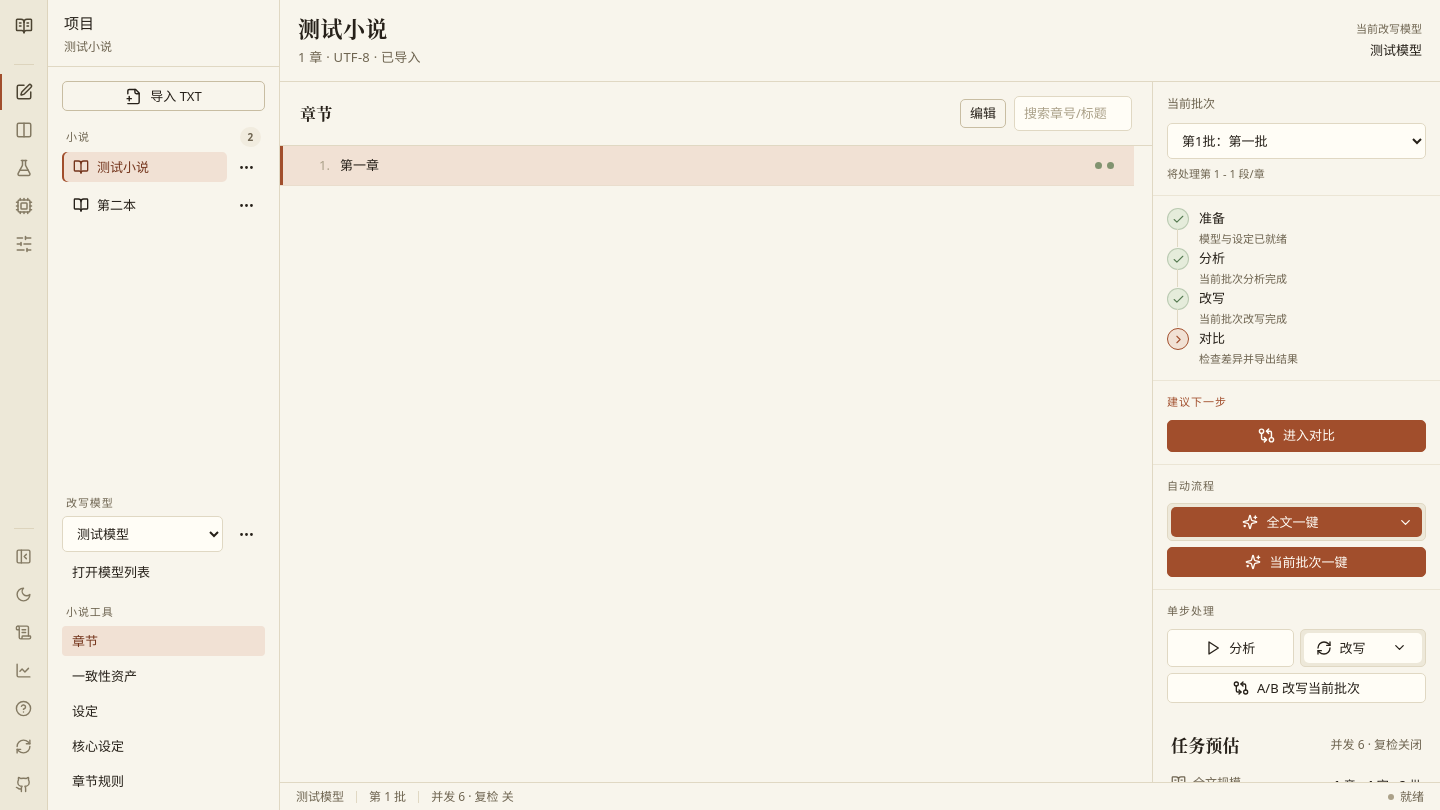
Scenario: App feature behavior › reopens the latest A/B experiment from the persistent top entry
The image size is (1440, 810).
Expected: the heading "测试小说" is shown, [298,12,388,43]
Click the button named "A/B 实验".
click(24, 168)  # box [6,150,42,186]
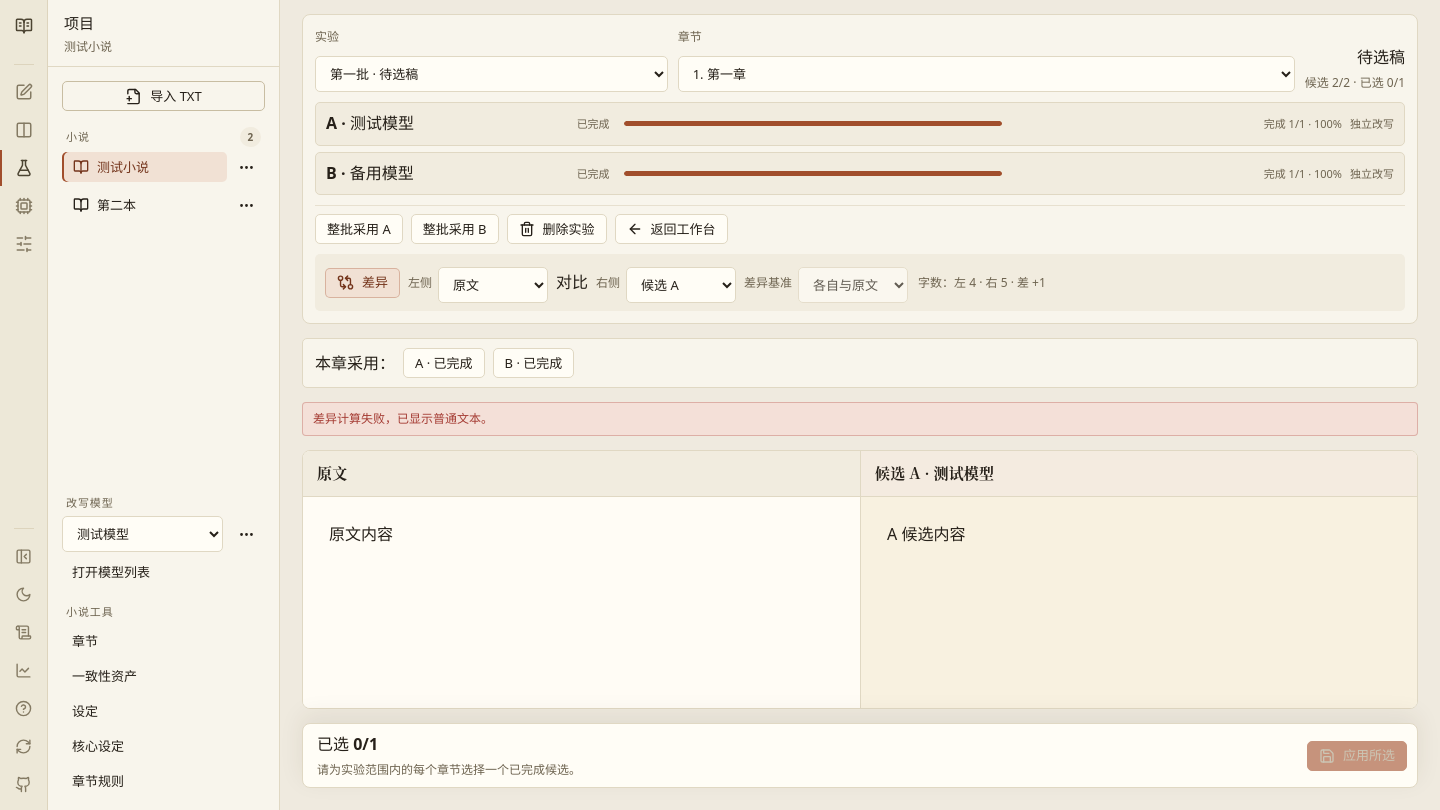
Expected: the text "A 候选内容" is shown, [887,523,965,545]
Click the button "返回工作台".
click(671, 229)  # box [615,214,728,244]
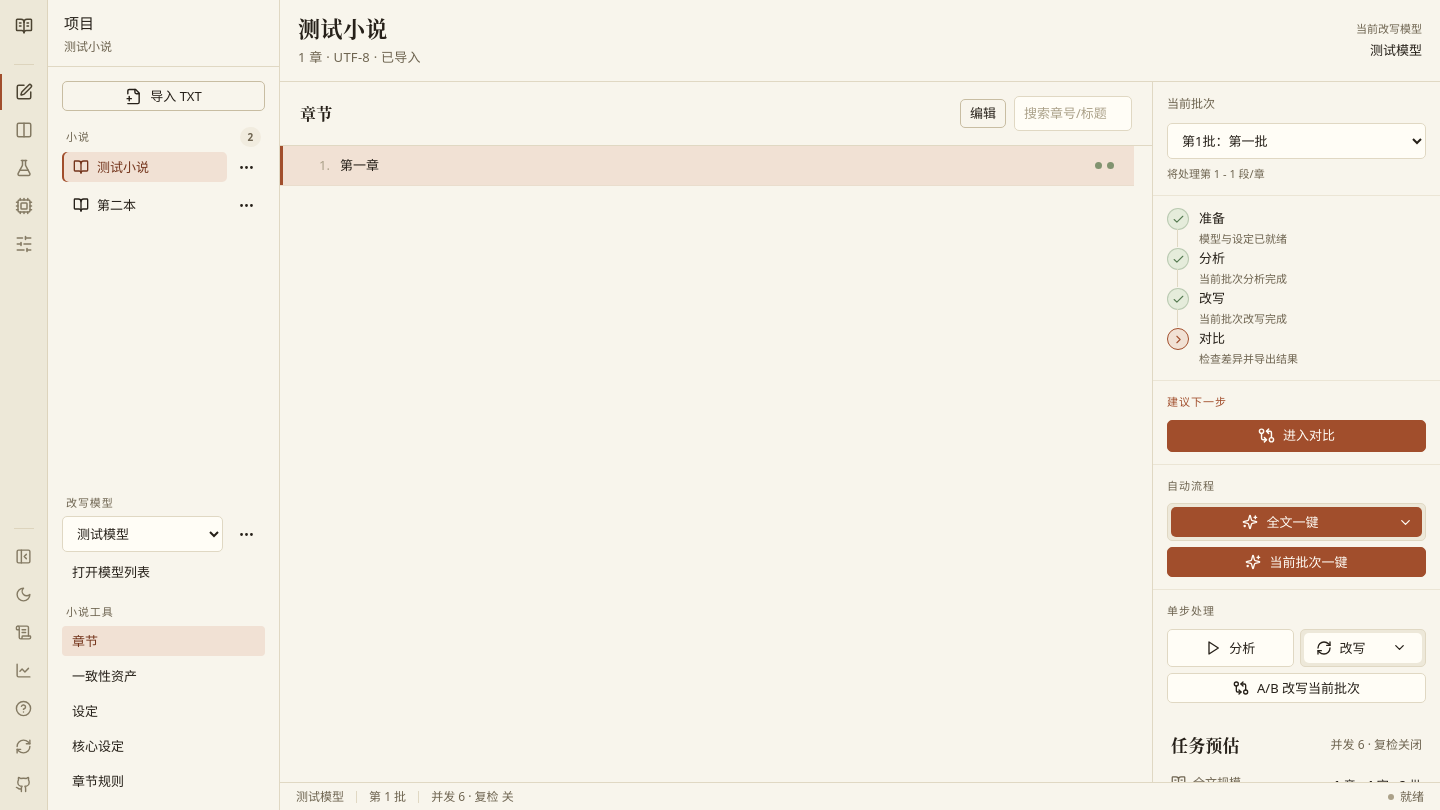
Expected: the heading "测试小说" is shown, [298,12,388,43]
Click the button named "A/B 实验".
click(24, 168)  # box [6,150,42,186]
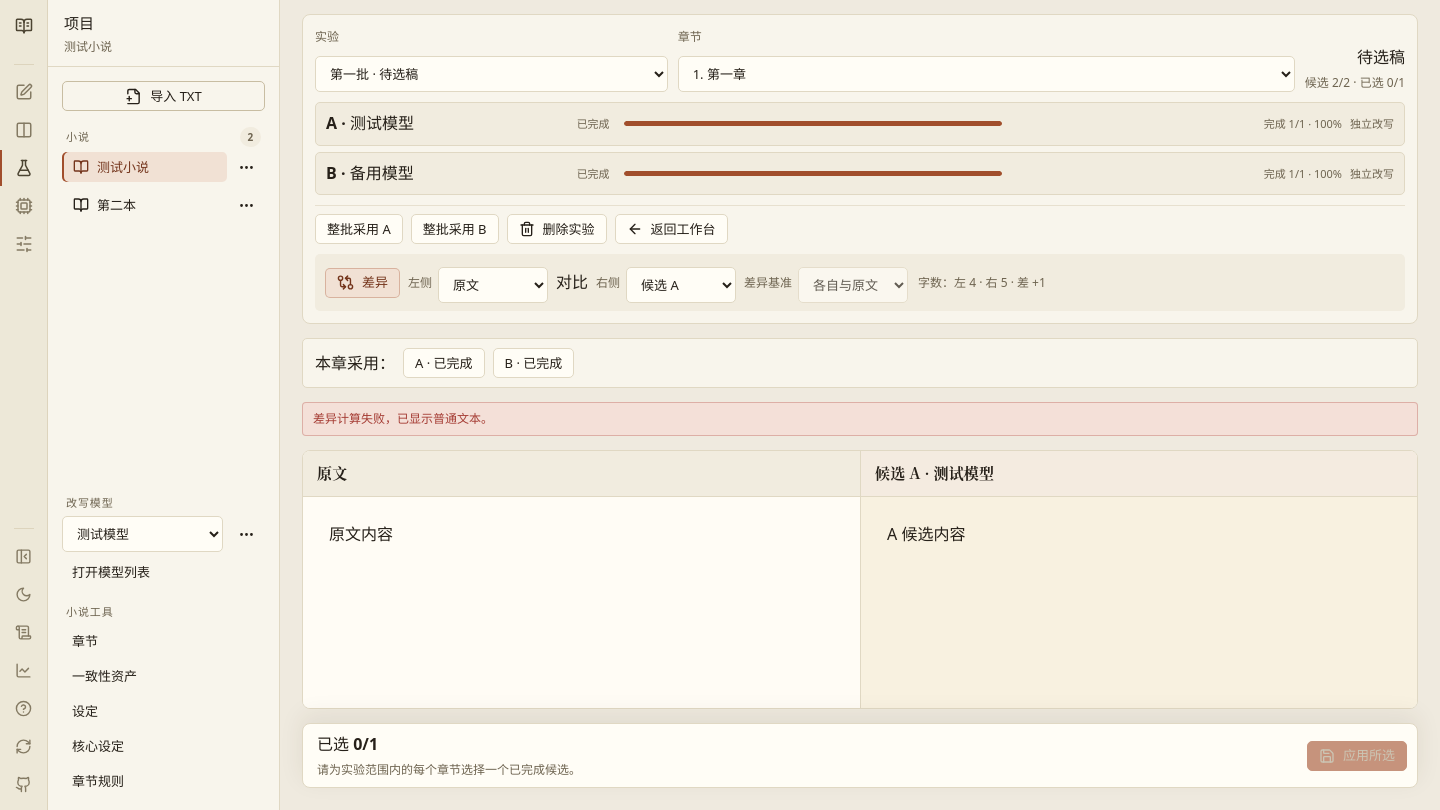
Expected: the text "A 候选内容" is shown, [887,523,965,545]
